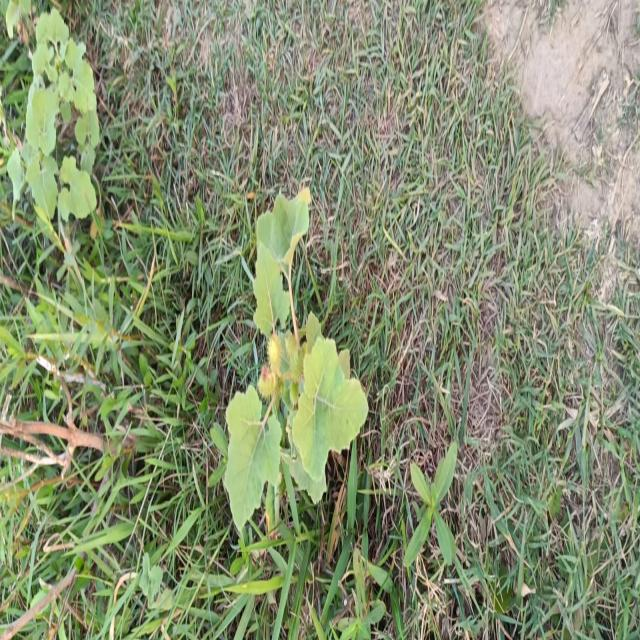plant: (221, 187, 368, 530), (6, 6, 99, 254)
